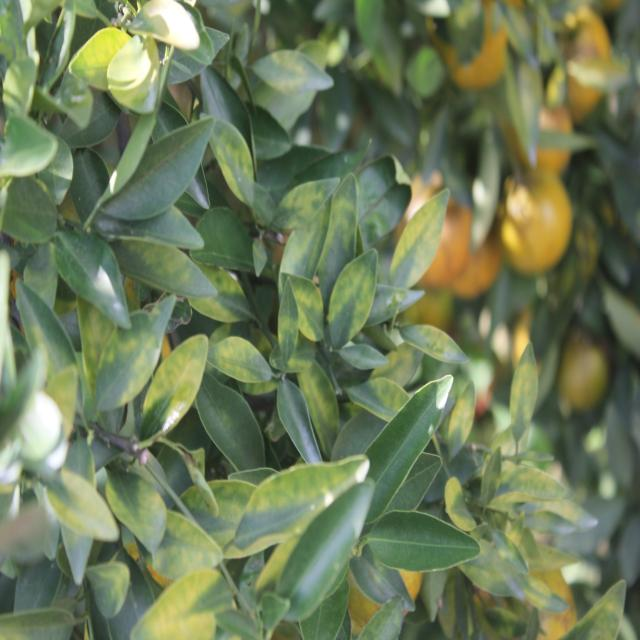greening: (239, 457, 364, 550), (148, 338, 210, 447), (391, 192, 450, 284), (328, 247, 382, 340), (210, 334, 278, 392), (111, 474, 163, 545), (270, 178, 338, 228), (214, 123, 255, 199), (286, 273, 323, 341)
